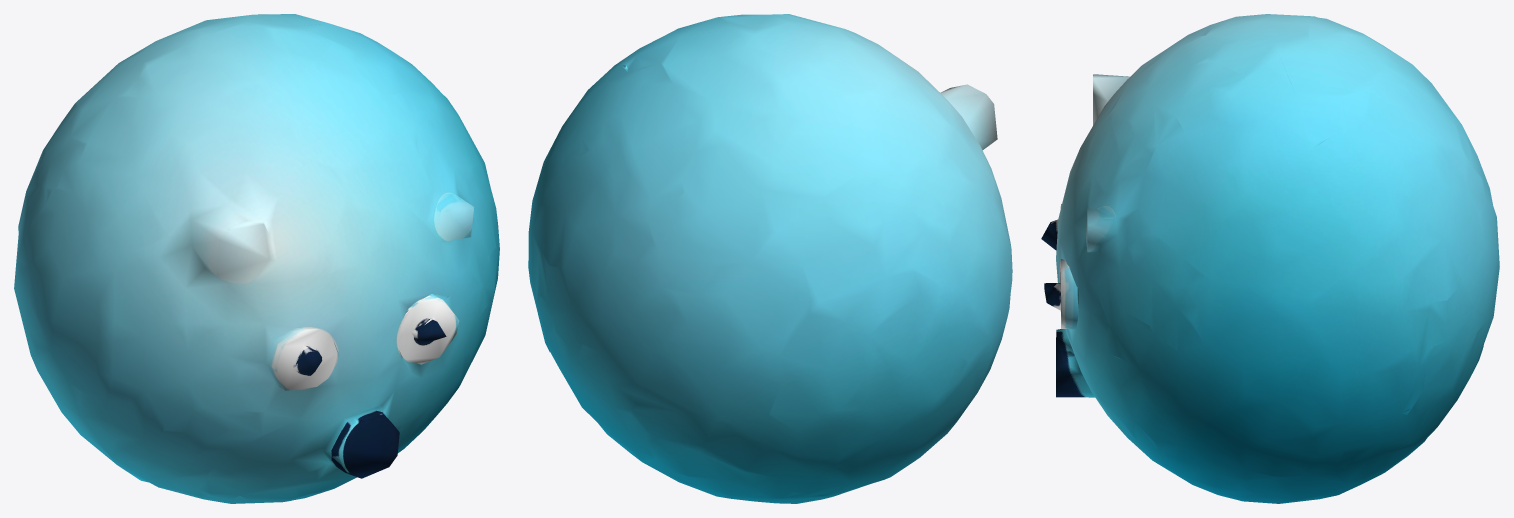
File: bubbles_3d.glb
3 views of the same model, side by side, from view 1: azimuth 30°, elevation 25°; view 2: azimuth 150°, elevation 25°; view 3: azimuth 270°, elevation 25° (orthographic).
Visible parts, largest first — view 1: tripo_node_888b19fb-5e59-4bee-b9c7-489f010d6c53; view 2: tripo_node_888b19fb-5e59-4bee-b9c7-489f010d6c53; view 3: tripo_node_888b19fb-5e59-4bee-b9c7-489f010d6c53.
Boxes of the visible parts, <box> form: tripo_node_888b19fb-5e59-4bee-b9c7-489f010d6c53: <box>14,14,499,503</box>; tripo_node_888b19fb-5e59-4bee-b9c7-489f010d6c53: <box>528,14,1012,503</box>; tripo_node_888b19fb-5e59-4bee-b9c7-489f010d6c53: <box>1041,14,1499,503</box>.
Size of the model in its own units: 0.9996 by 1 by 0.9319.
1 material, 1 textured.
